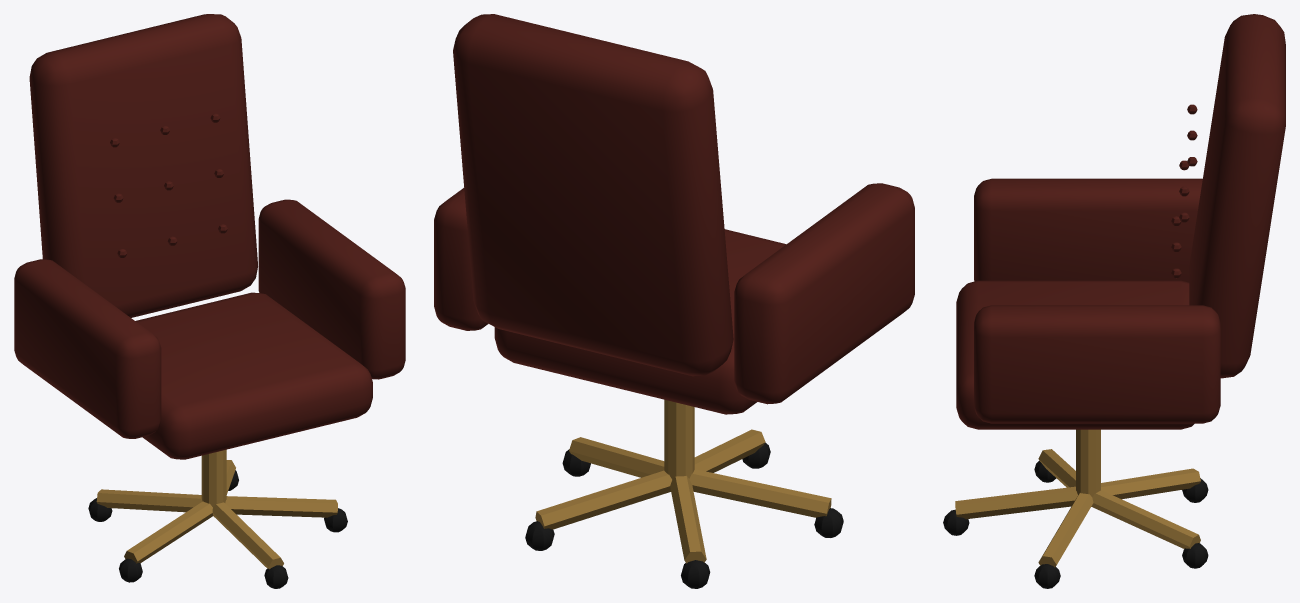
Rendered from meridian_desk_chair.glb.
3 views of the same model, side by side, from view 1: azimuth 30°, elevation 25°; view 2: azimuth 150°, elevation 25°; view 3: azimuth 270°, elevation 25° (orthographic). The views are drawn at different scales.
Visible parts, largest first — view 1: meridian_desk_chair; view 2: meridian_desk_chair; view 3: meridian_desk_chair.
Part boxes in pixels (bbox=[...]): meridian_desk_chair: bbox=[14, 14, 405, 588]; meridian_desk_chair: bbox=[434, 14, 914, 588]; meridian_desk_chair: bbox=[943, 14, 1285, 588].
Bounding box in the file's own units: 0.8 × 1.2 × 0.7785.
